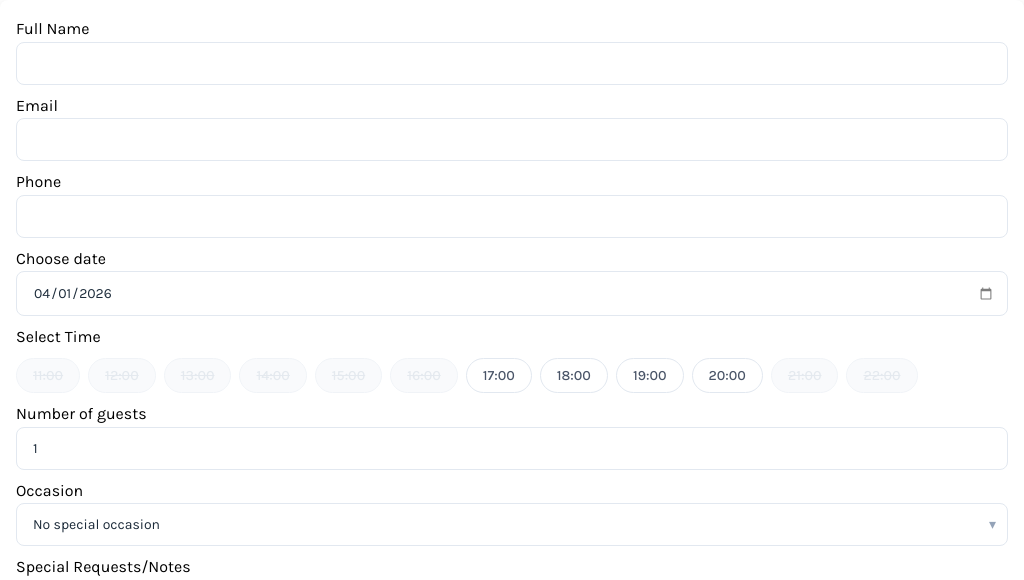
Scenario: BookingForm › Validation › shows error for invalid email
Type "invalidemail" into the field labelled "Email".
click(512, 140); type("invalidemail")  # box [16,118,1008,161]
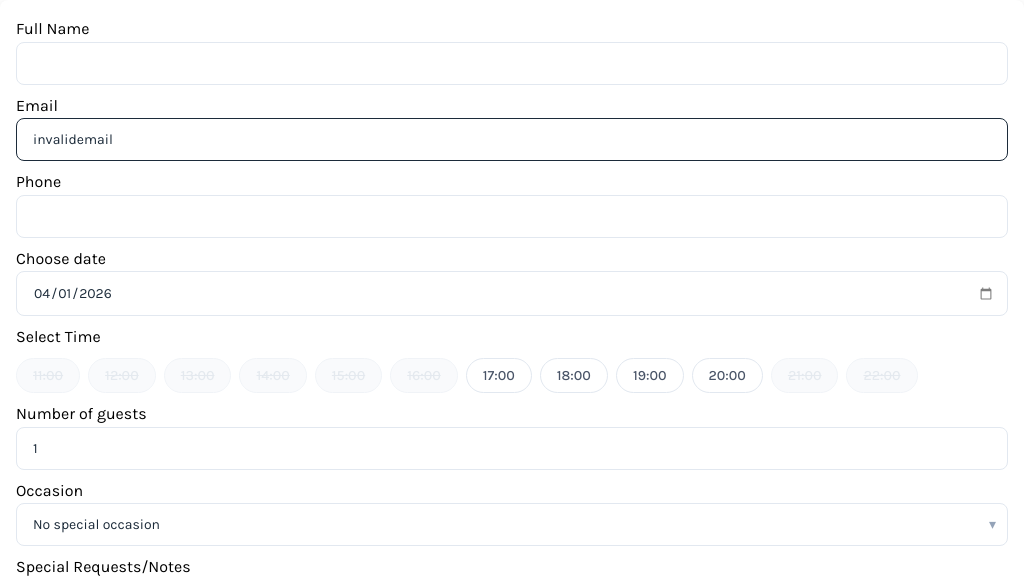
Leave the field labelled "Email", box [16,118,1008,161]
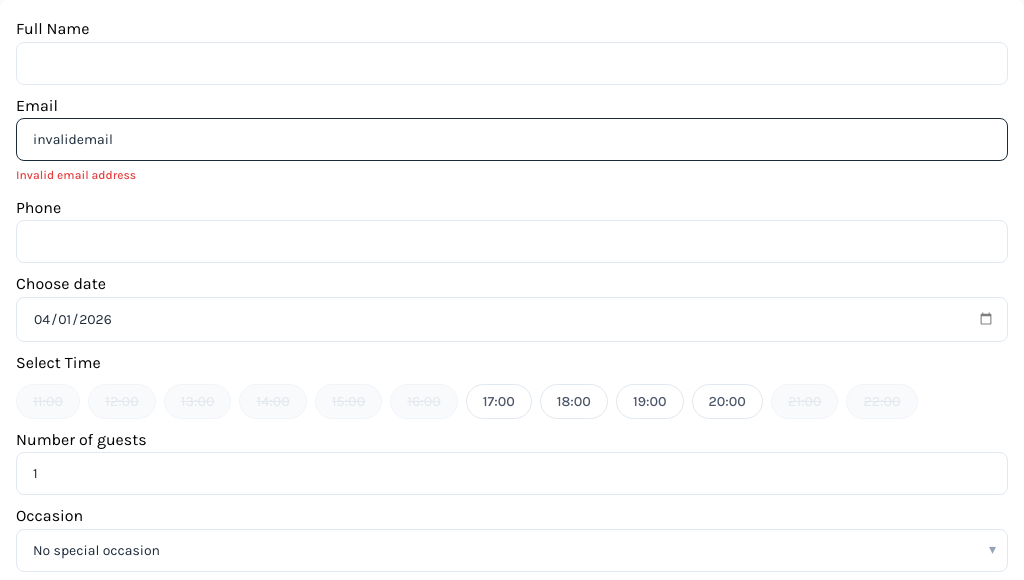
Check: the text "Invalid email address" is shown, box [16,168,136,182]
